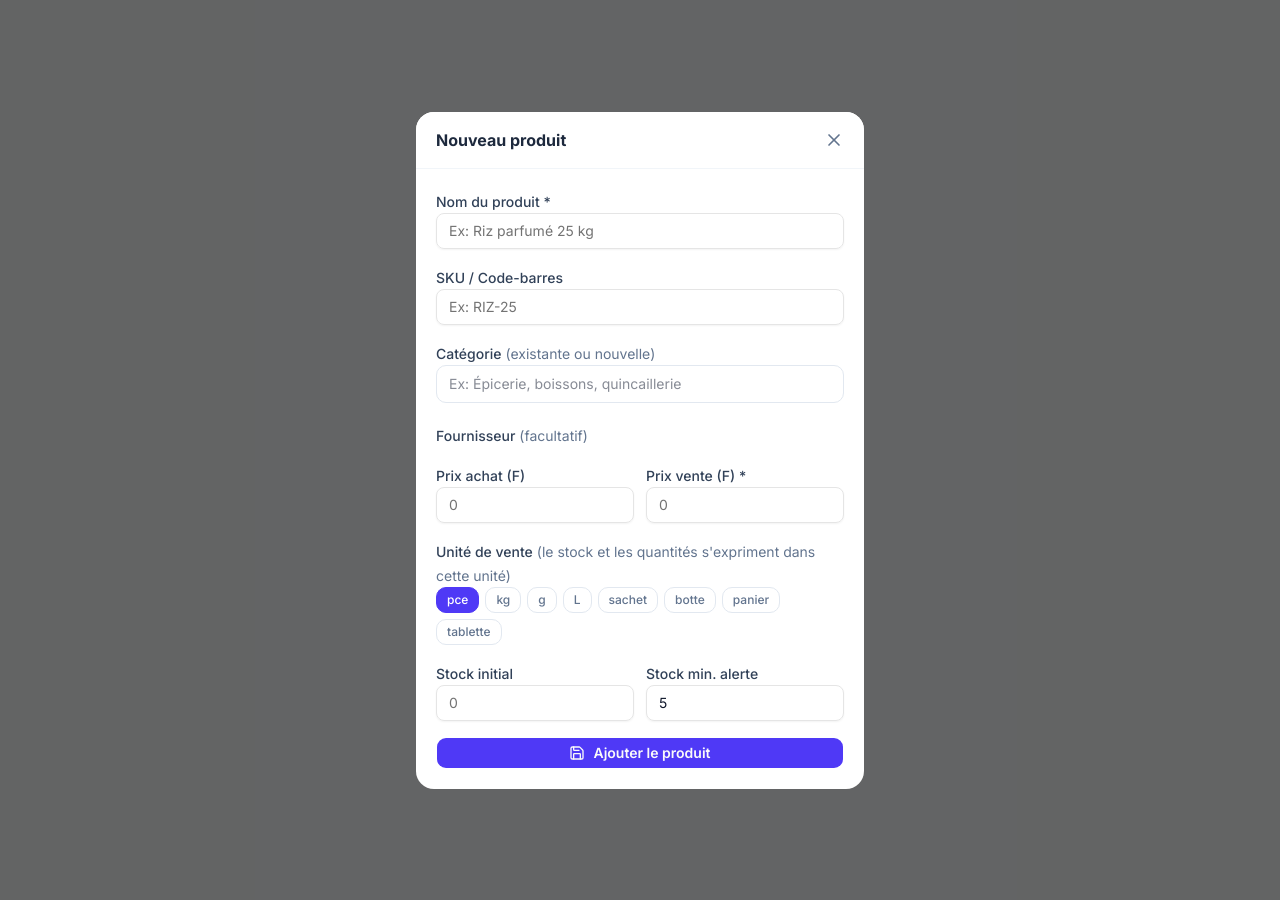
ProductForm › bloque un nouveau produit au-delà du quota du plan
Type "Riz" into the field labelled "Nom du produit *" at (640, 230), box [436,212,844,248]
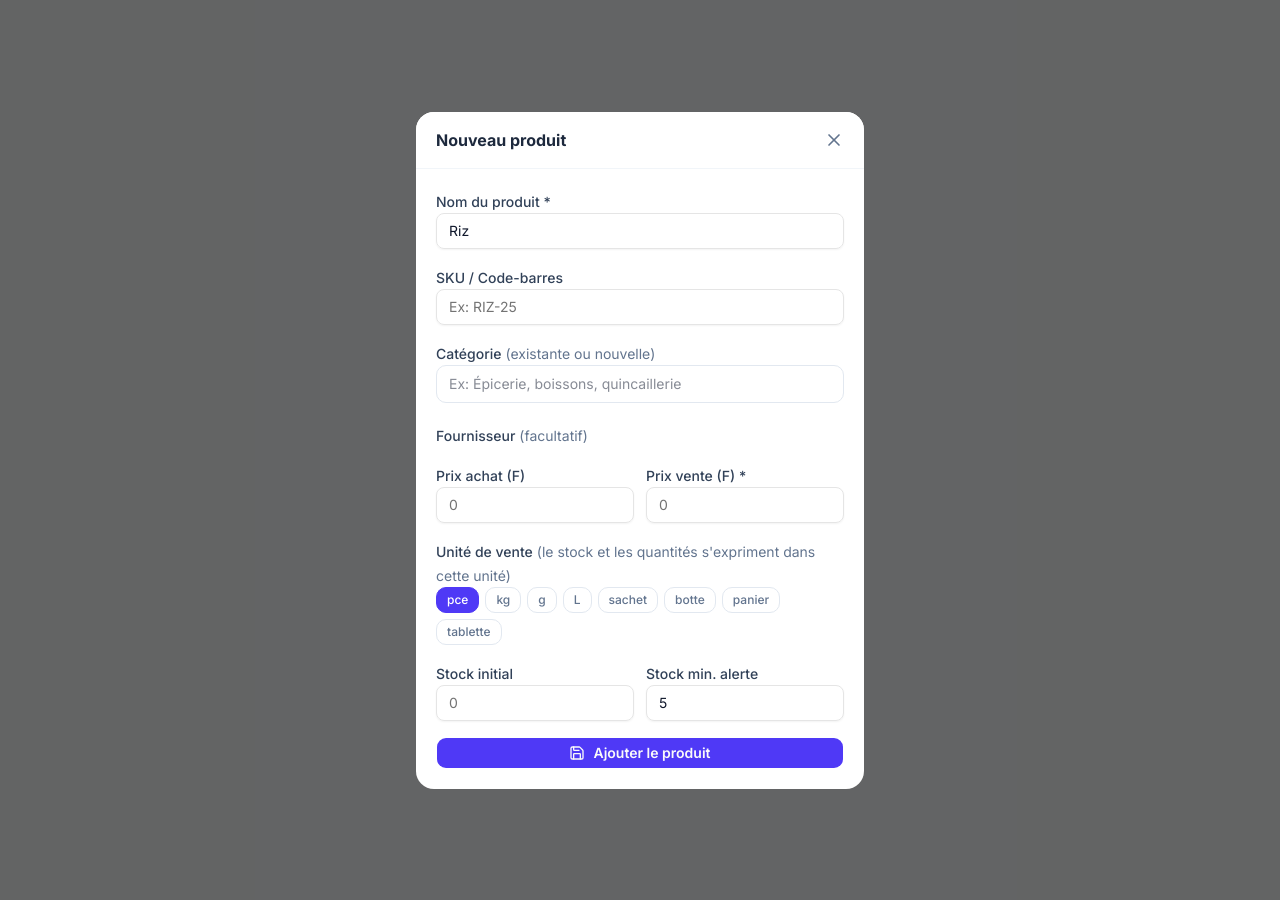
Type "500" into the number field labelled "Prix vente (F) *" at (745, 504), box [646,486,844,522]
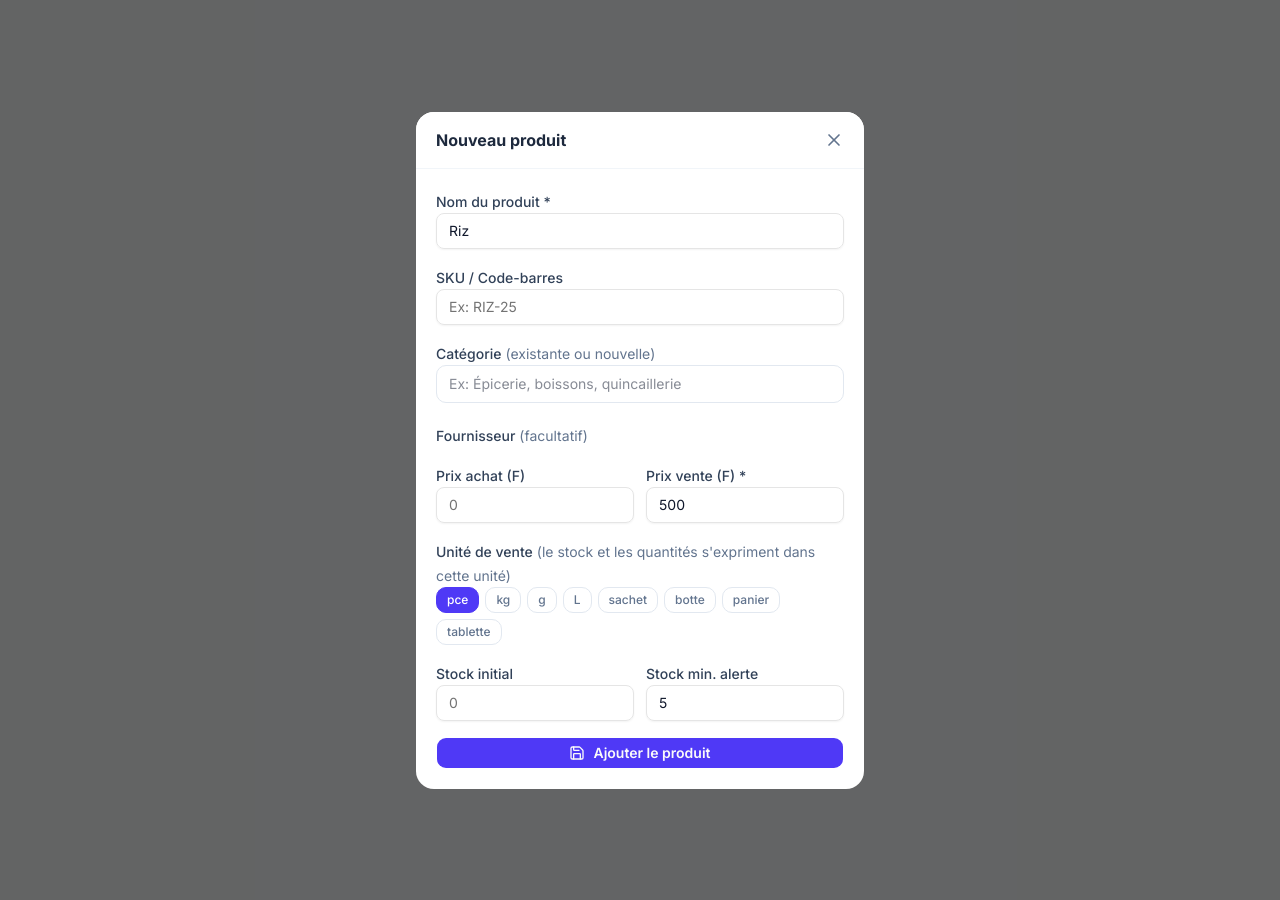
Click the button "Ajouter le produit" at (640, 752), box [436,736,844,768]
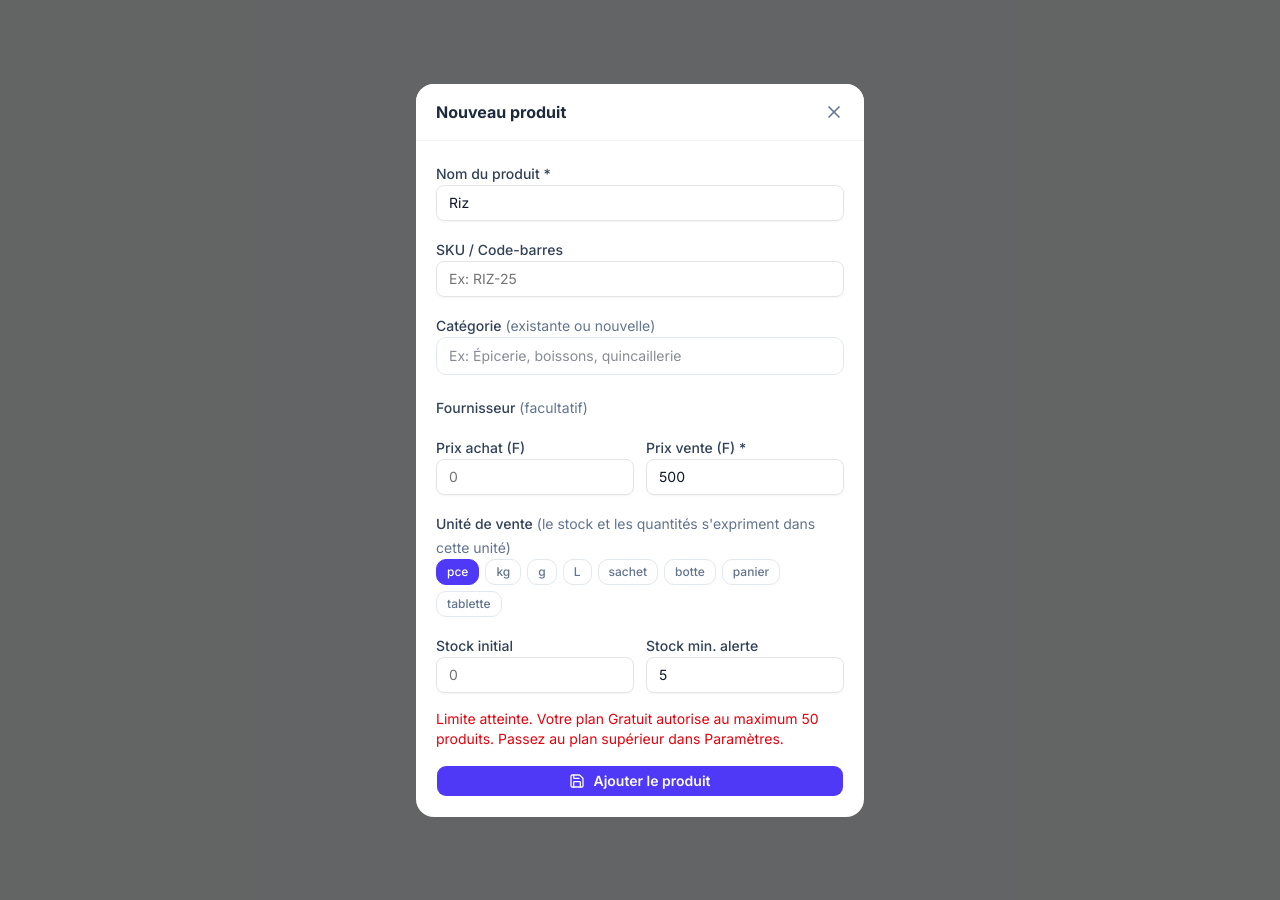
expect the text "Limite atteinte" is shown: met, box [436,710,819,746]
